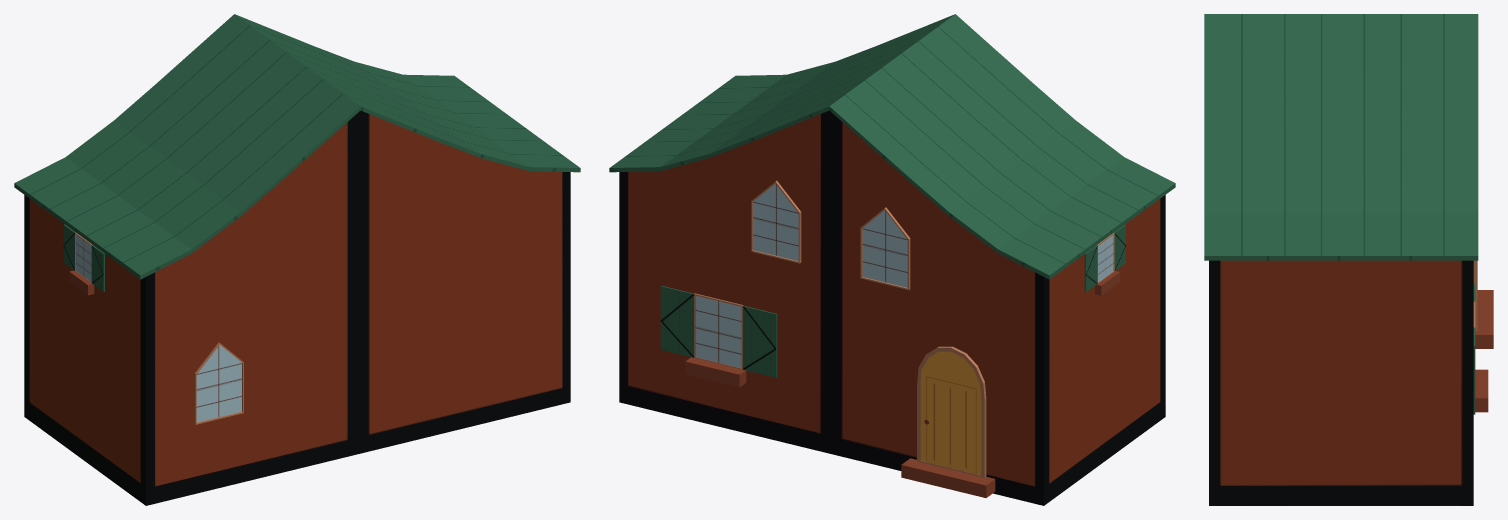
Rendered from Sulimo_Small_House_1.fbx.
The picture shows the model from 3 angles, left to right: view 1: azimuth 30°, elevation 25°; view 2: azimuth 150°, elevation 25°; view 3: azimuth 270°, elevation 25°; orthographic projection. The views are drawn at different scales.
Parts seen in each view (by area): view 1: maison, Toit, fenetre chelou.002; view 2: maison, Toit, small door, Fenetre, fenetre chelou, fenetre chelou.001, volet gauche.001, volet gauche, marche, new small Door Frame, rebord fenetre, cdra fenetre chelou.001 (+1 smaller); view 3: Toit, maison, marche, rebord fenetre.
Boxes of the visible parts, <box> form: maison: <box>24,110,570,505</box>; Toit: <box>14,14,580,279</box>; fenetre chelou.002: <box>196,345,241,422</box>; maison: <box>619,110,1165,505</box>; Toit: <box>609,14,1175,279</box>; small door: <box>920,351,981,475</box>; Fenetre: <box>695,296,741,368</box>; fenetre chelou: <box>753,183,798,260</box>; fenetre chelou.001: <box>862,210,907,287</box>; volet gauche.001: <box>743,306,777,377</box>; volet gauche: <box>660,285,693,357</box>; marche: <box>901,458,995,497</box>; new small Door Frame: <box>917,346,986,477</box>; rebord fenetre: <box>685,357,746,387</box>; cdra fenetre chelou.001: <box>860,207,910,290</box>; Toit: <box>1204,14,1478,260</box>; maison: <box>1209,260,1473,505</box>; marche: <box>1475,290,1493,348</box>; rebord fenetre: <box>1475,369,1488,412</box>.
Bounding box in the file's own units: 725 × 550 × 380.
